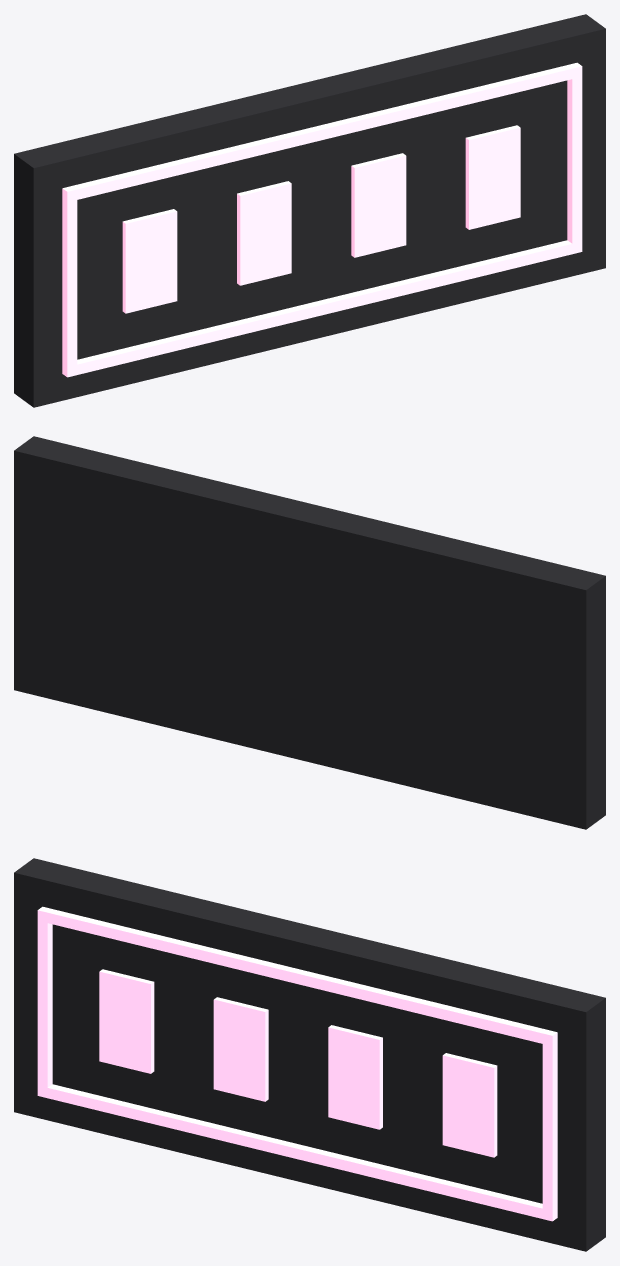
Rendered from sign-open.glb.
The picture shows the model from 3 angles, top to bottom: view 1: azimuth 30°, elevation 25°; view 2: azimuth 150°, elevation 25°; view 3: azimuth 330°, elevation 25°; orthographic projection.
Visible parts, largest first — view 1: body; view 2: body; view 3: body.
Boxes of the visible parts, x1,y1,x2,y2 form: body: (14, 14, 605, 407); body: (14, 436, 605, 829); body: (14, 858, 605, 1251).
Bounding box in the file's own units: 0.4 × 0.16 × 0.03.
